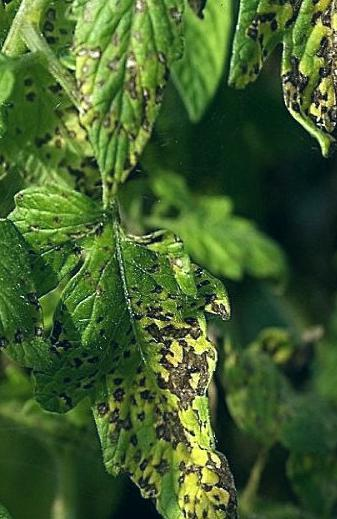Tomato Septoria leaf spot: (66, 214, 248, 519), (71, 0, 185, 213), (226, 0, 337, 161)
